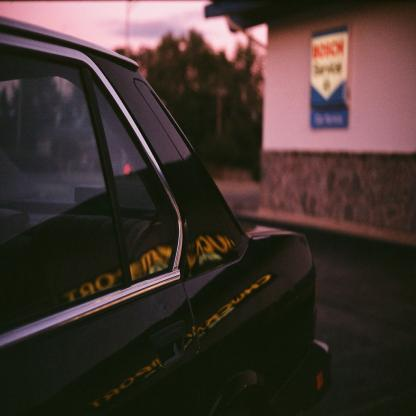Car: (6, 25, 318, 412)
